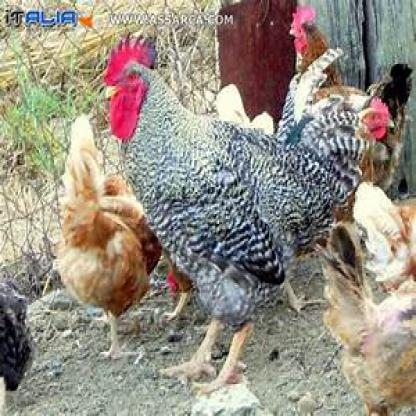chicken: (104, 32, 370, 391), (58, 116, 161, 361), (290, 7, 340, 86), (355, 98, 394, 146)
